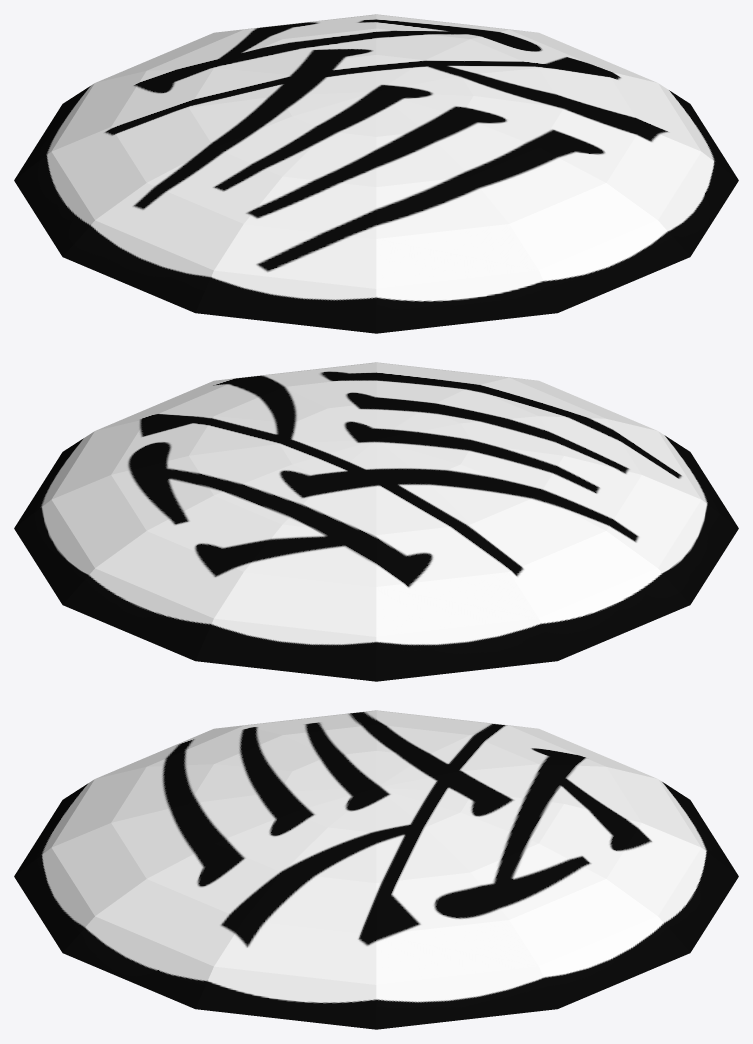
Rendered from tate.glb.
The picture shows the model from 3 angles, top to bottom: view 1: azimuth 30°, elevation 25°; view 2: azimuth 150°, elevation 25°; view 3: azimuth 270°, elevation 25°; orthographic projection.
Parts seen in each view (by area): view 1: 盾; view 2: 盾; view 3: 盾.
Boxes of the visible parts, bbox=[...] form: 盾: bbox=[14, 14, 738, 333]; 盾: bbox=[14, 362, 738, 681]; 盾: bbox=[14, 710, 738, 1029].
Size of the model in its own units: 1.93 by 0.2607 by 1.93.
Materials: 1 (1 with a texture image).
